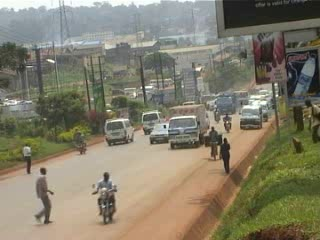Car: (148, 121, 172, 145)
Motorcycle: (90, 172, 121, 224), (73, 132, 89, 155), (221, 112, 233, 134), (211, 104, 221, 125)
